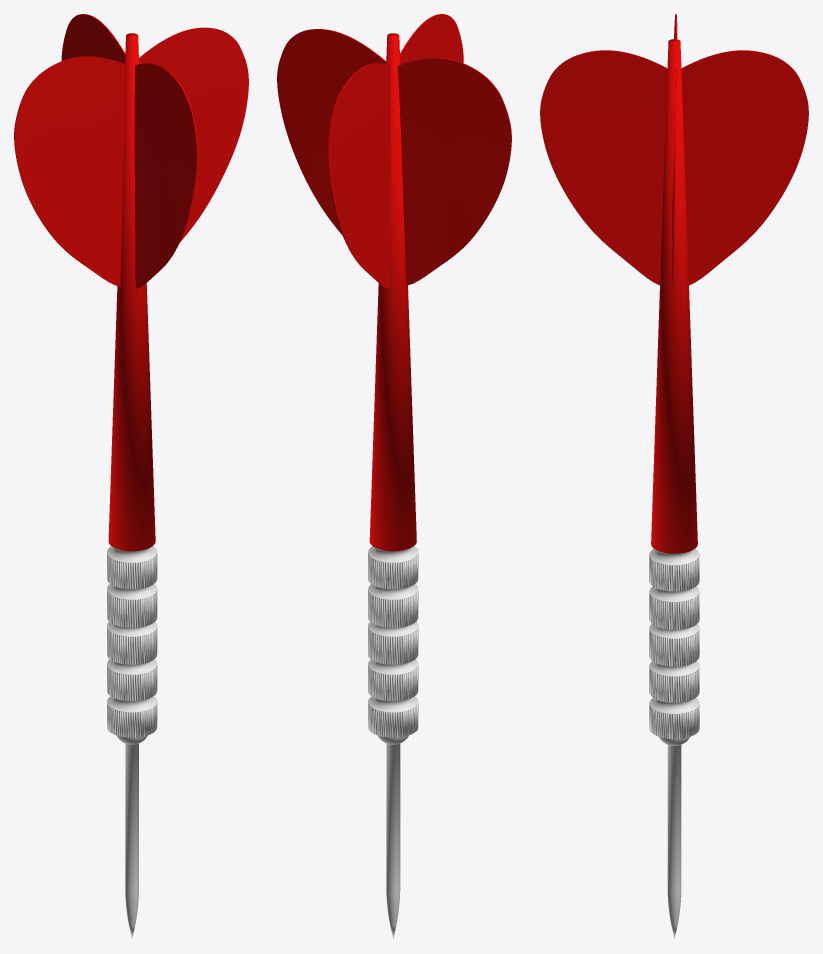
File: Dart with red fins.fbx
3 views of the same model, side by side, from view 1: azimuth 30°, elevation 25°; view 2: azimuth 150°, elevation 25°; view 3: azimuth 270°, elevation 25° (orthographic).
Visible parts, largest first — view 1: DART; view 2: DART; view 3: DART.
Boxes of the visible parts, x1,y1,x2,y2 form: DART: [14, 14, 248, 939]; DART: [277, 14, 511, 938]; DART: [540, 14, 808, 939].
Bounding box in the file's own units: 119 × 440 × 119.
